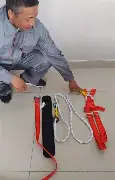safety belt: (36, 92, 111, 151)
